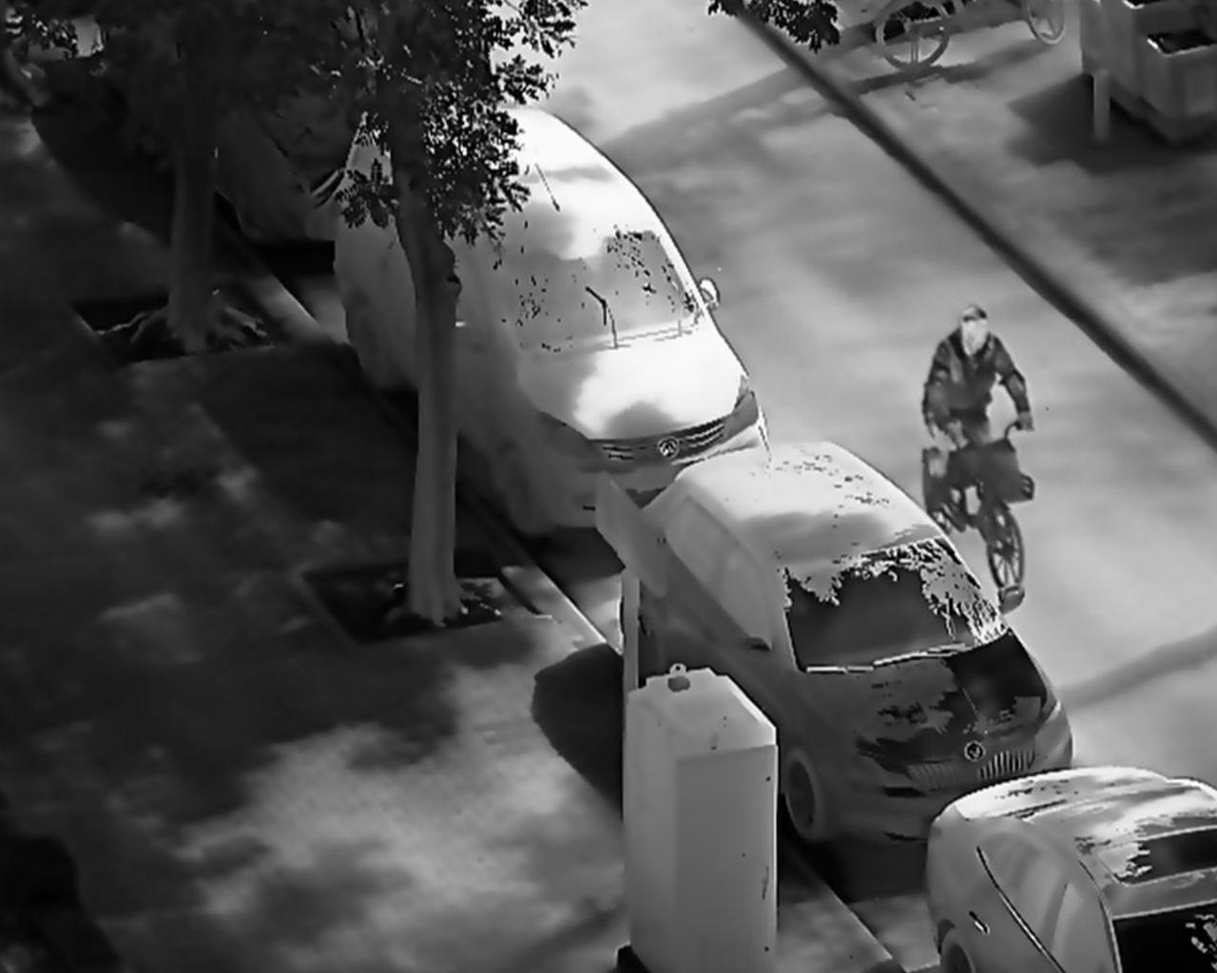person: (919, 303, 1042, 534)
